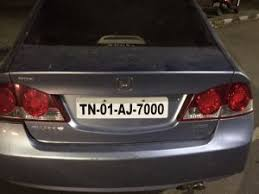T: (78, 103, 86, 116)
